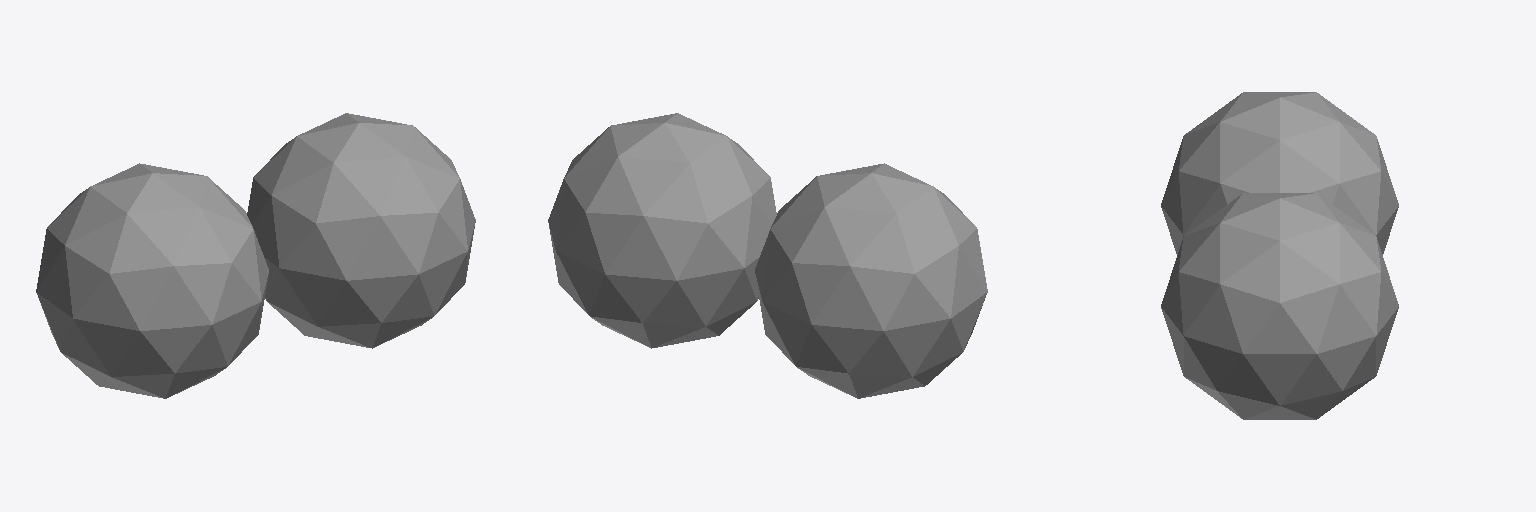
File: double-ball.obj
The picture shows the model from 3 angles: view 1: azimuth 30°, elevation 25°; view 2: azimuth 150°, elevation 25°; view 3: azimuth 270°, elevation 25°; orthographic projection.
Visible parts, largest first — view 1: Sphere; view 2: Sphere; view 3: Sphere.
Boxes of the visible parts, box(x1,y1,x2,y2) form: Sphere: box(36, 113, 475, 398); Sphere: box(548, 113, 987, 398); Sphere: box(1161, 92, 1398, 419).
Size of the model in its own units: 0.9755 by 0.5 by 0.5.